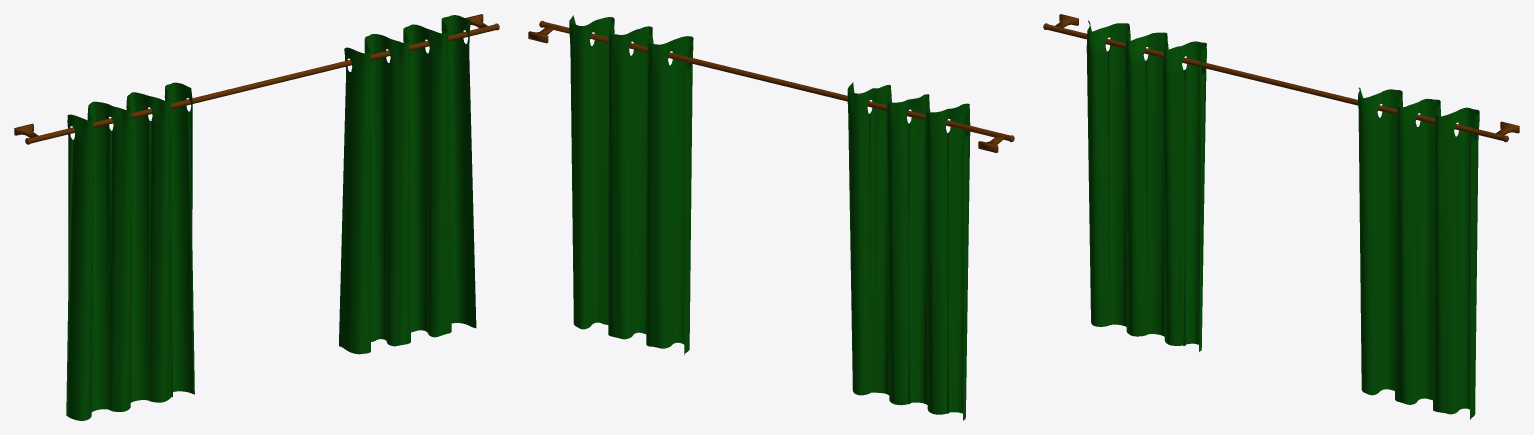
File: cortinas.fbx
3 renders of one model, left to right at view 1: azimuth 30°, elevation 25°; view 2: azimuth 150°, elevation 25°; view 3: azimuth 330°, elevation 25°, orthographic. The views are drawn at different scales.
Parts seen in each view (by area): view 1: Cylinder; view 2: Cylinder; view 3: Cylinder.
Boxes of the visible parts, x1,y1,x2,y2 form: Cylinder: (14,14,499,420); Cylinder: (528,15,1014,420); Cylinder: (1043,14,1519,419).
Bounding box in the file's own units: 1142 × 707 × 101.
